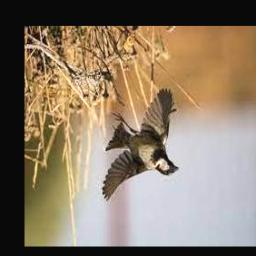Sparrow: (102, 89, 179, 202)
